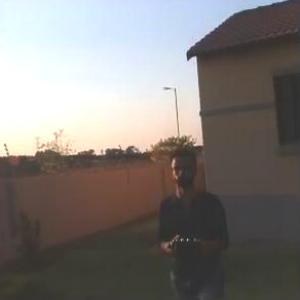follow: (150, 147, 232, 299)
